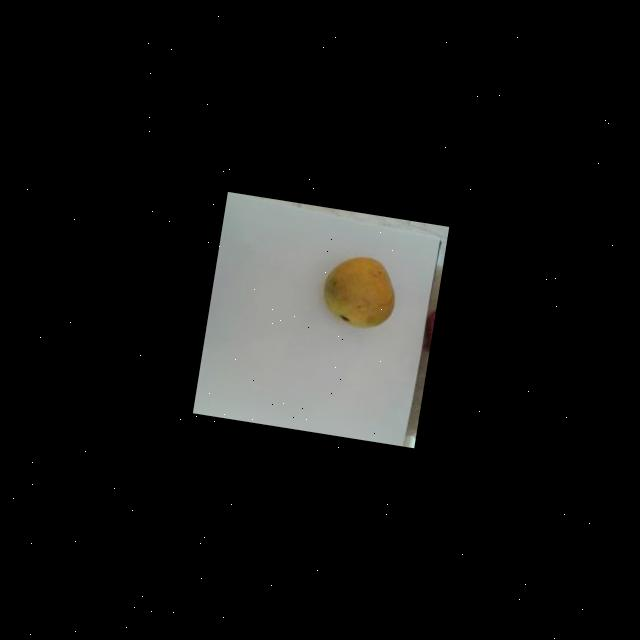Mango: (319, 251, 401, 332), (422, 301, 436, 355)
